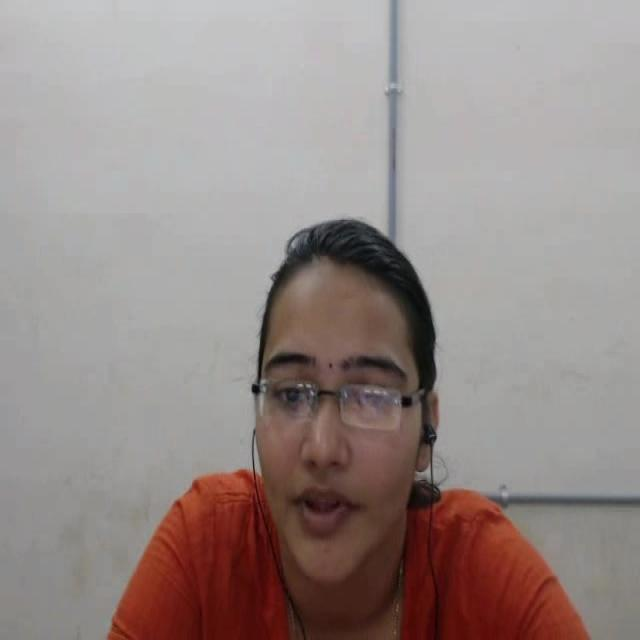Engaged: (211, 187, 444, 622)
